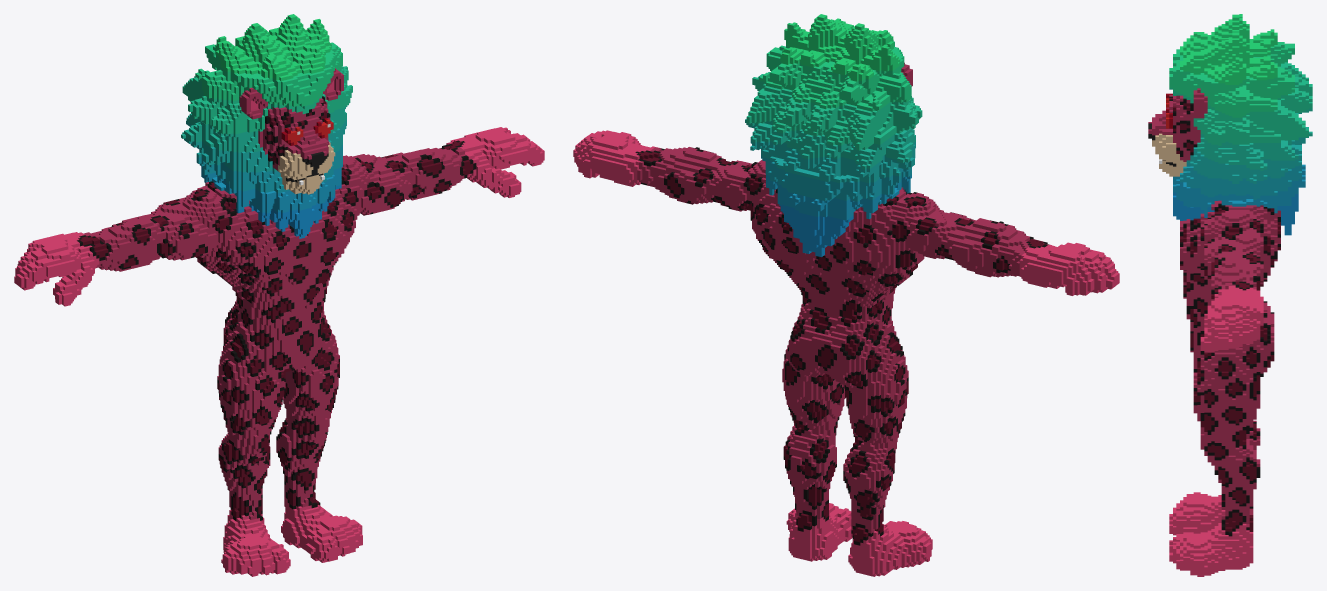
3 renders of one model, left to right at view 1: azimuth 30°, elevation 25°; view 2: azimuth 150°, elevation 25°; view 3: azimuth 270°, elevation 25°, orthographic. The views are drawn at different scales.
Visible parts, largest first — view 1: standard; view 2: standard; view 3: standard.
Boxes of the visible parts, x1,y1,x2,y2 form: standard: [14, 14, 544, 576]; standard: [573, 14, 1119, 576]; standard: [1148, 14, 1312, 576].
Bounding box in the file's own units: 17.2 × 16.5 × 4.7.
4 materials, 4 textured.
